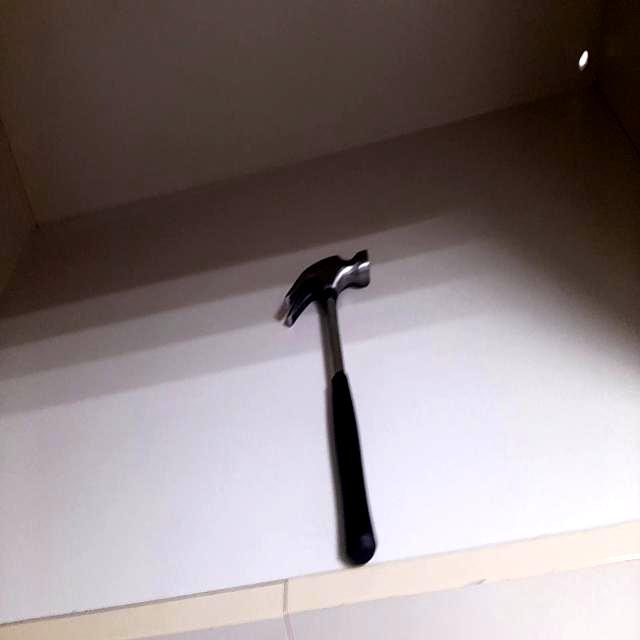hammer: (272, 243, 392, 562)
